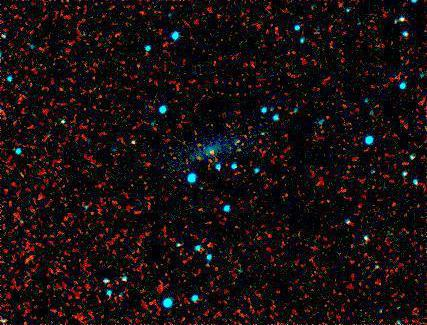star: (223, 135, 253, 165)
